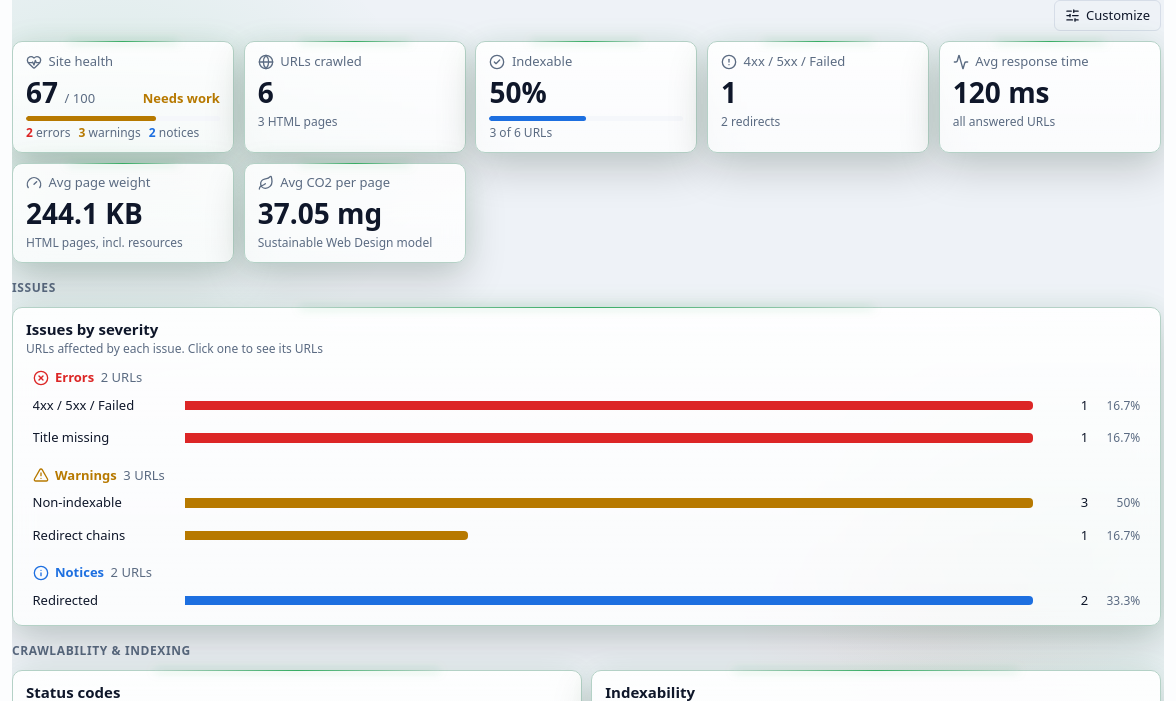
Scenario: Dashboard › showing and hiding › toggles panels from Customize, and Show all brings everything back
Step 1. Click the button "Customize" → x=1107, y=16, box left=1054, top=0, right=1161, bottom=31
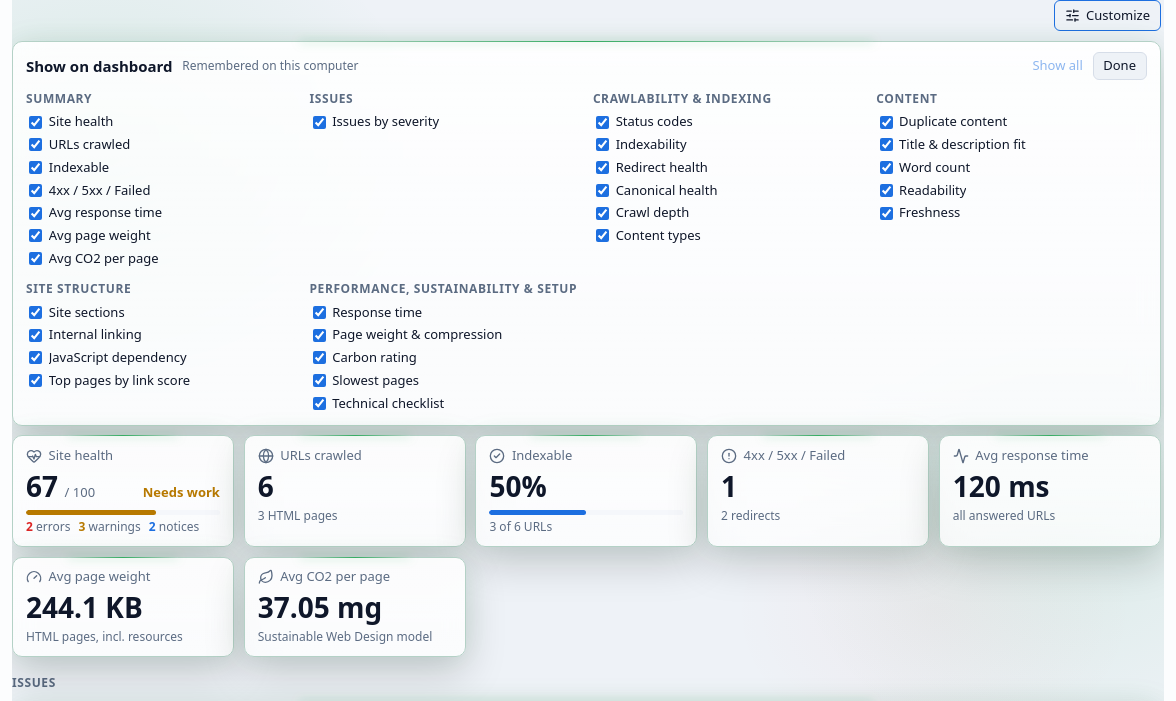
Step 2. Click the checkbox labelled "Readability" → x=886, y=190, box left=880, top=184, right=893, bottom=197
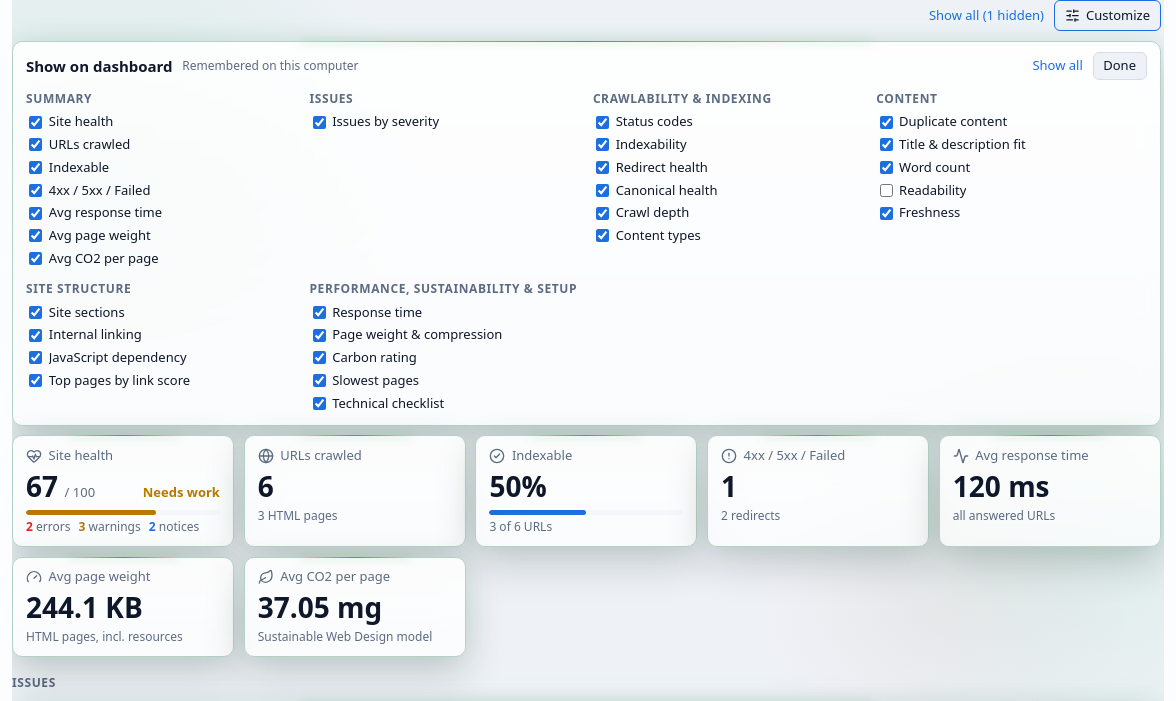
Step 3. Click the checkbox labelled "Readability" → x=886, y=190, box left=880, top=184, right=893, bottom=197
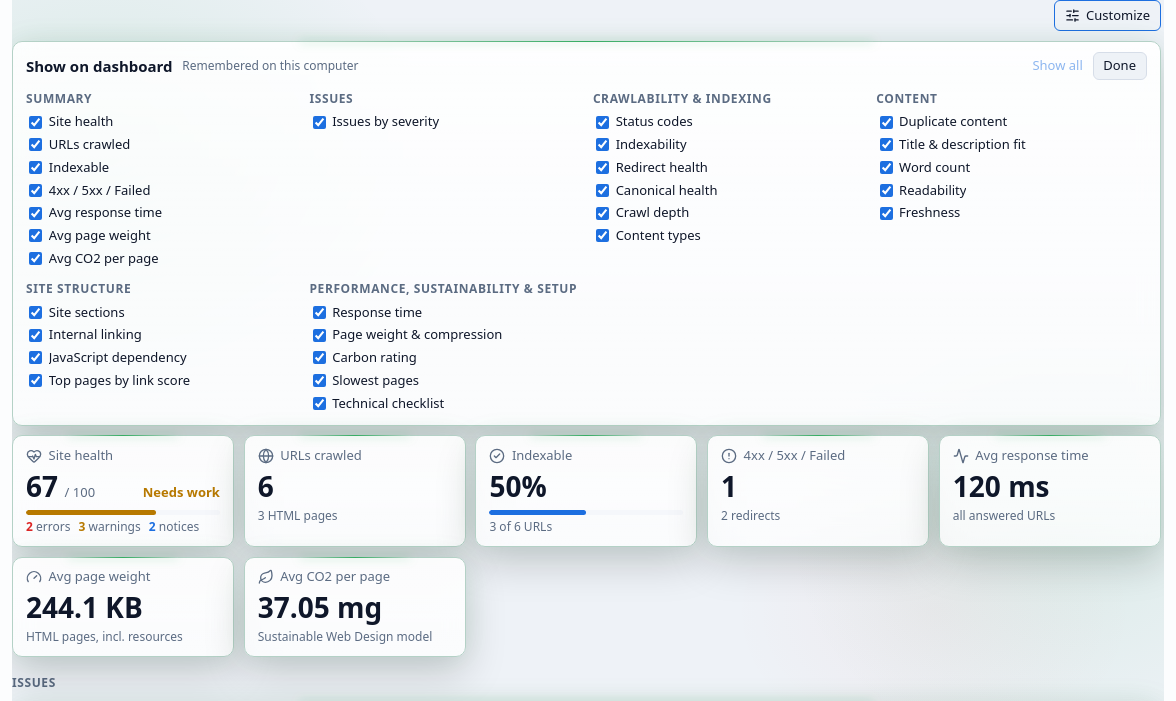
Step 4. Click the checkbox labelled "Freshness" → x=886, y=213, box left=880, top=207, right=893, bottom=220
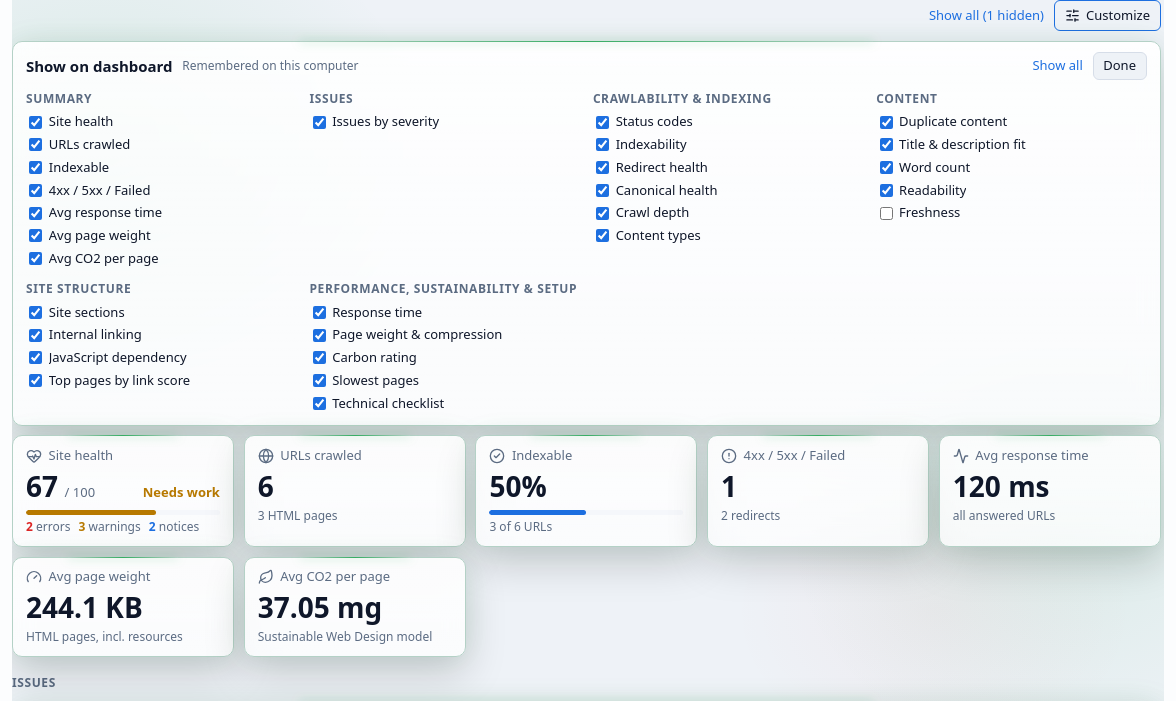
Step 5. Click the button "Show all (1 hidden)" → x=986, y=16, box left=929, top=6, right=1044, bottom=25
(page scrolled)
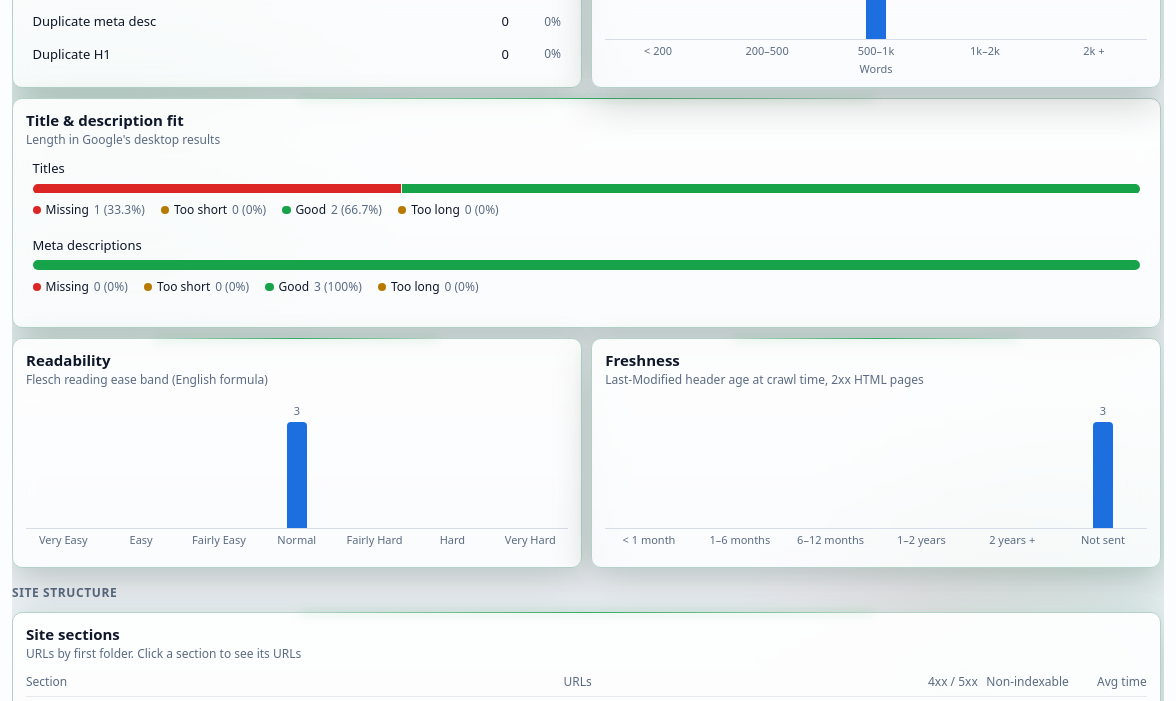
Check: the heading "Freshness" is shown, box left=605, top=350, right=680, bottom=370
